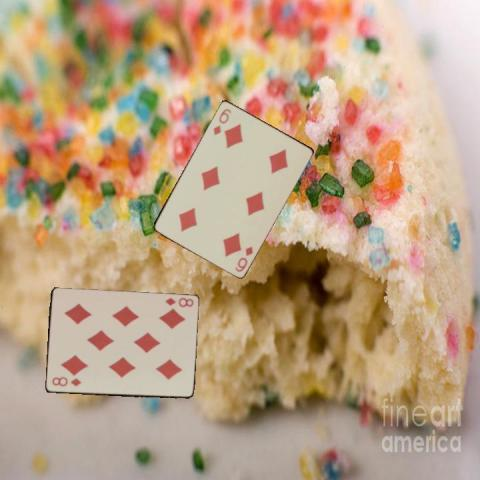6d: (210, 105, 233, 137), (232, 243, 255, 273)
8d: (49, 375, 82, 388), (162, 295, 195, 308)
